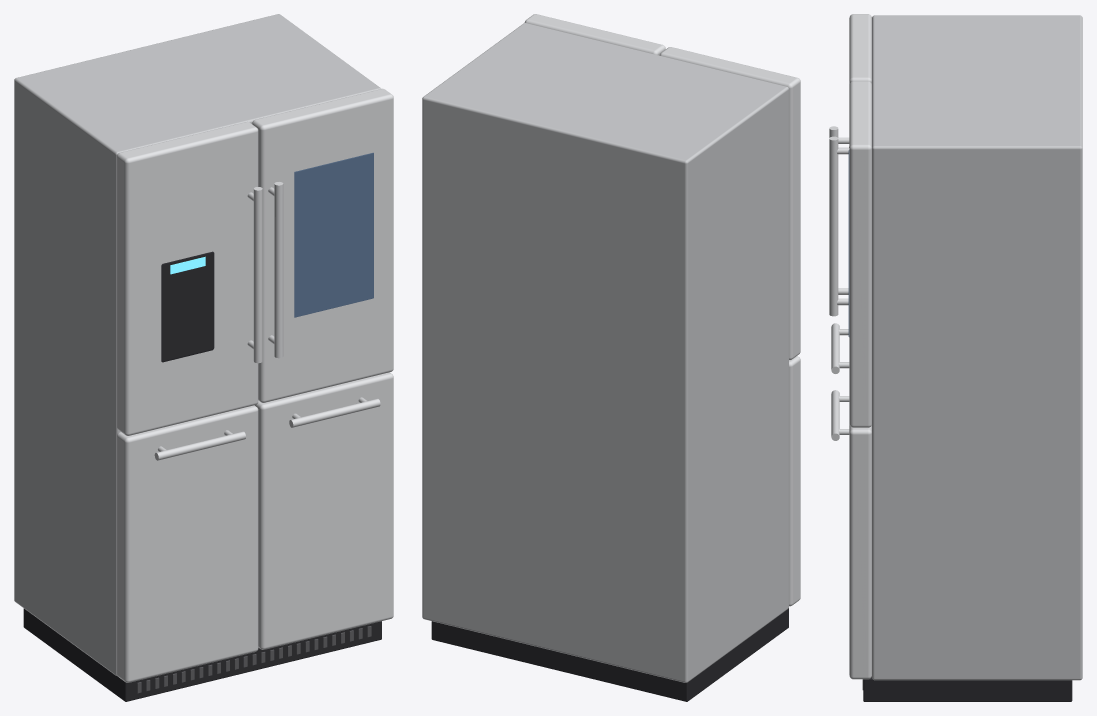
Rendered from fridge.glb.
3 views of the same model, side by side, from view 1: azimuth 30°, elevation 25°; view 2: azimuth 150°, elevation 25°; view 3: azimuth 270°, elevation 25° (orthographic). The views are drawn at different scales.
Parts seen in each view (by area): view 1: refrigerator; view 2: refrigerator; view 3: refrigerator.
Boxes of the visible parts, x1,y1,x2,y2 form: refrigerator: (14, 14, 393, 701); refrigerator: (422, 14, 800, 701); refrigerator: (829, 14, 1082, 701).
Size of the model in its own units: 0.912 by 1.78 by 0.73.
